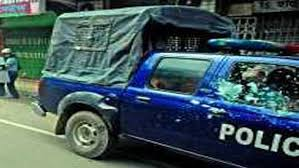policecar: (37, 3, 299, 167)
